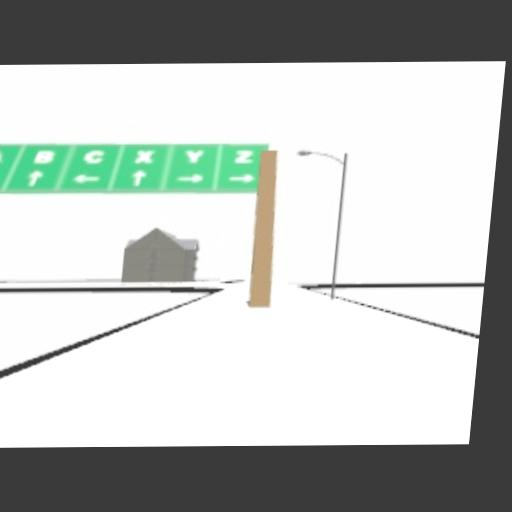A: (0, 148, 2, 162)
B: (32, 147, 54, 162)
C: (82, 147, 104, 161)
Left: (72, 173, 100, 182)
Right: (176, 172, 204, 181), (228, 173, 256, 181)
Straight: (25, 168, 43, 186), (131, 167, 147, 185)
X: (134, 147, 154, 161)
Y: (184, 148, 204, 161)
Z: (233, 148, 255, 162)
